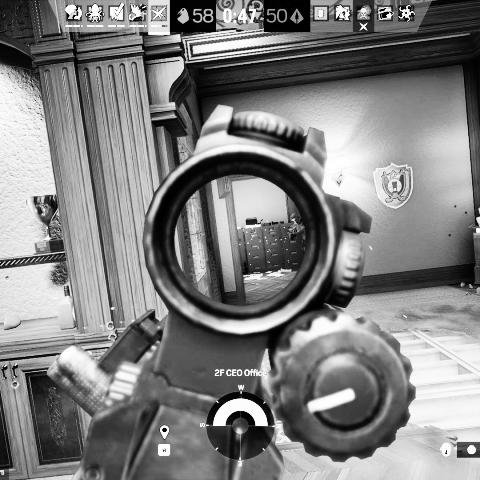Character: (286, 211, 307, 251)
Head: (290, 213, 301, 225)
